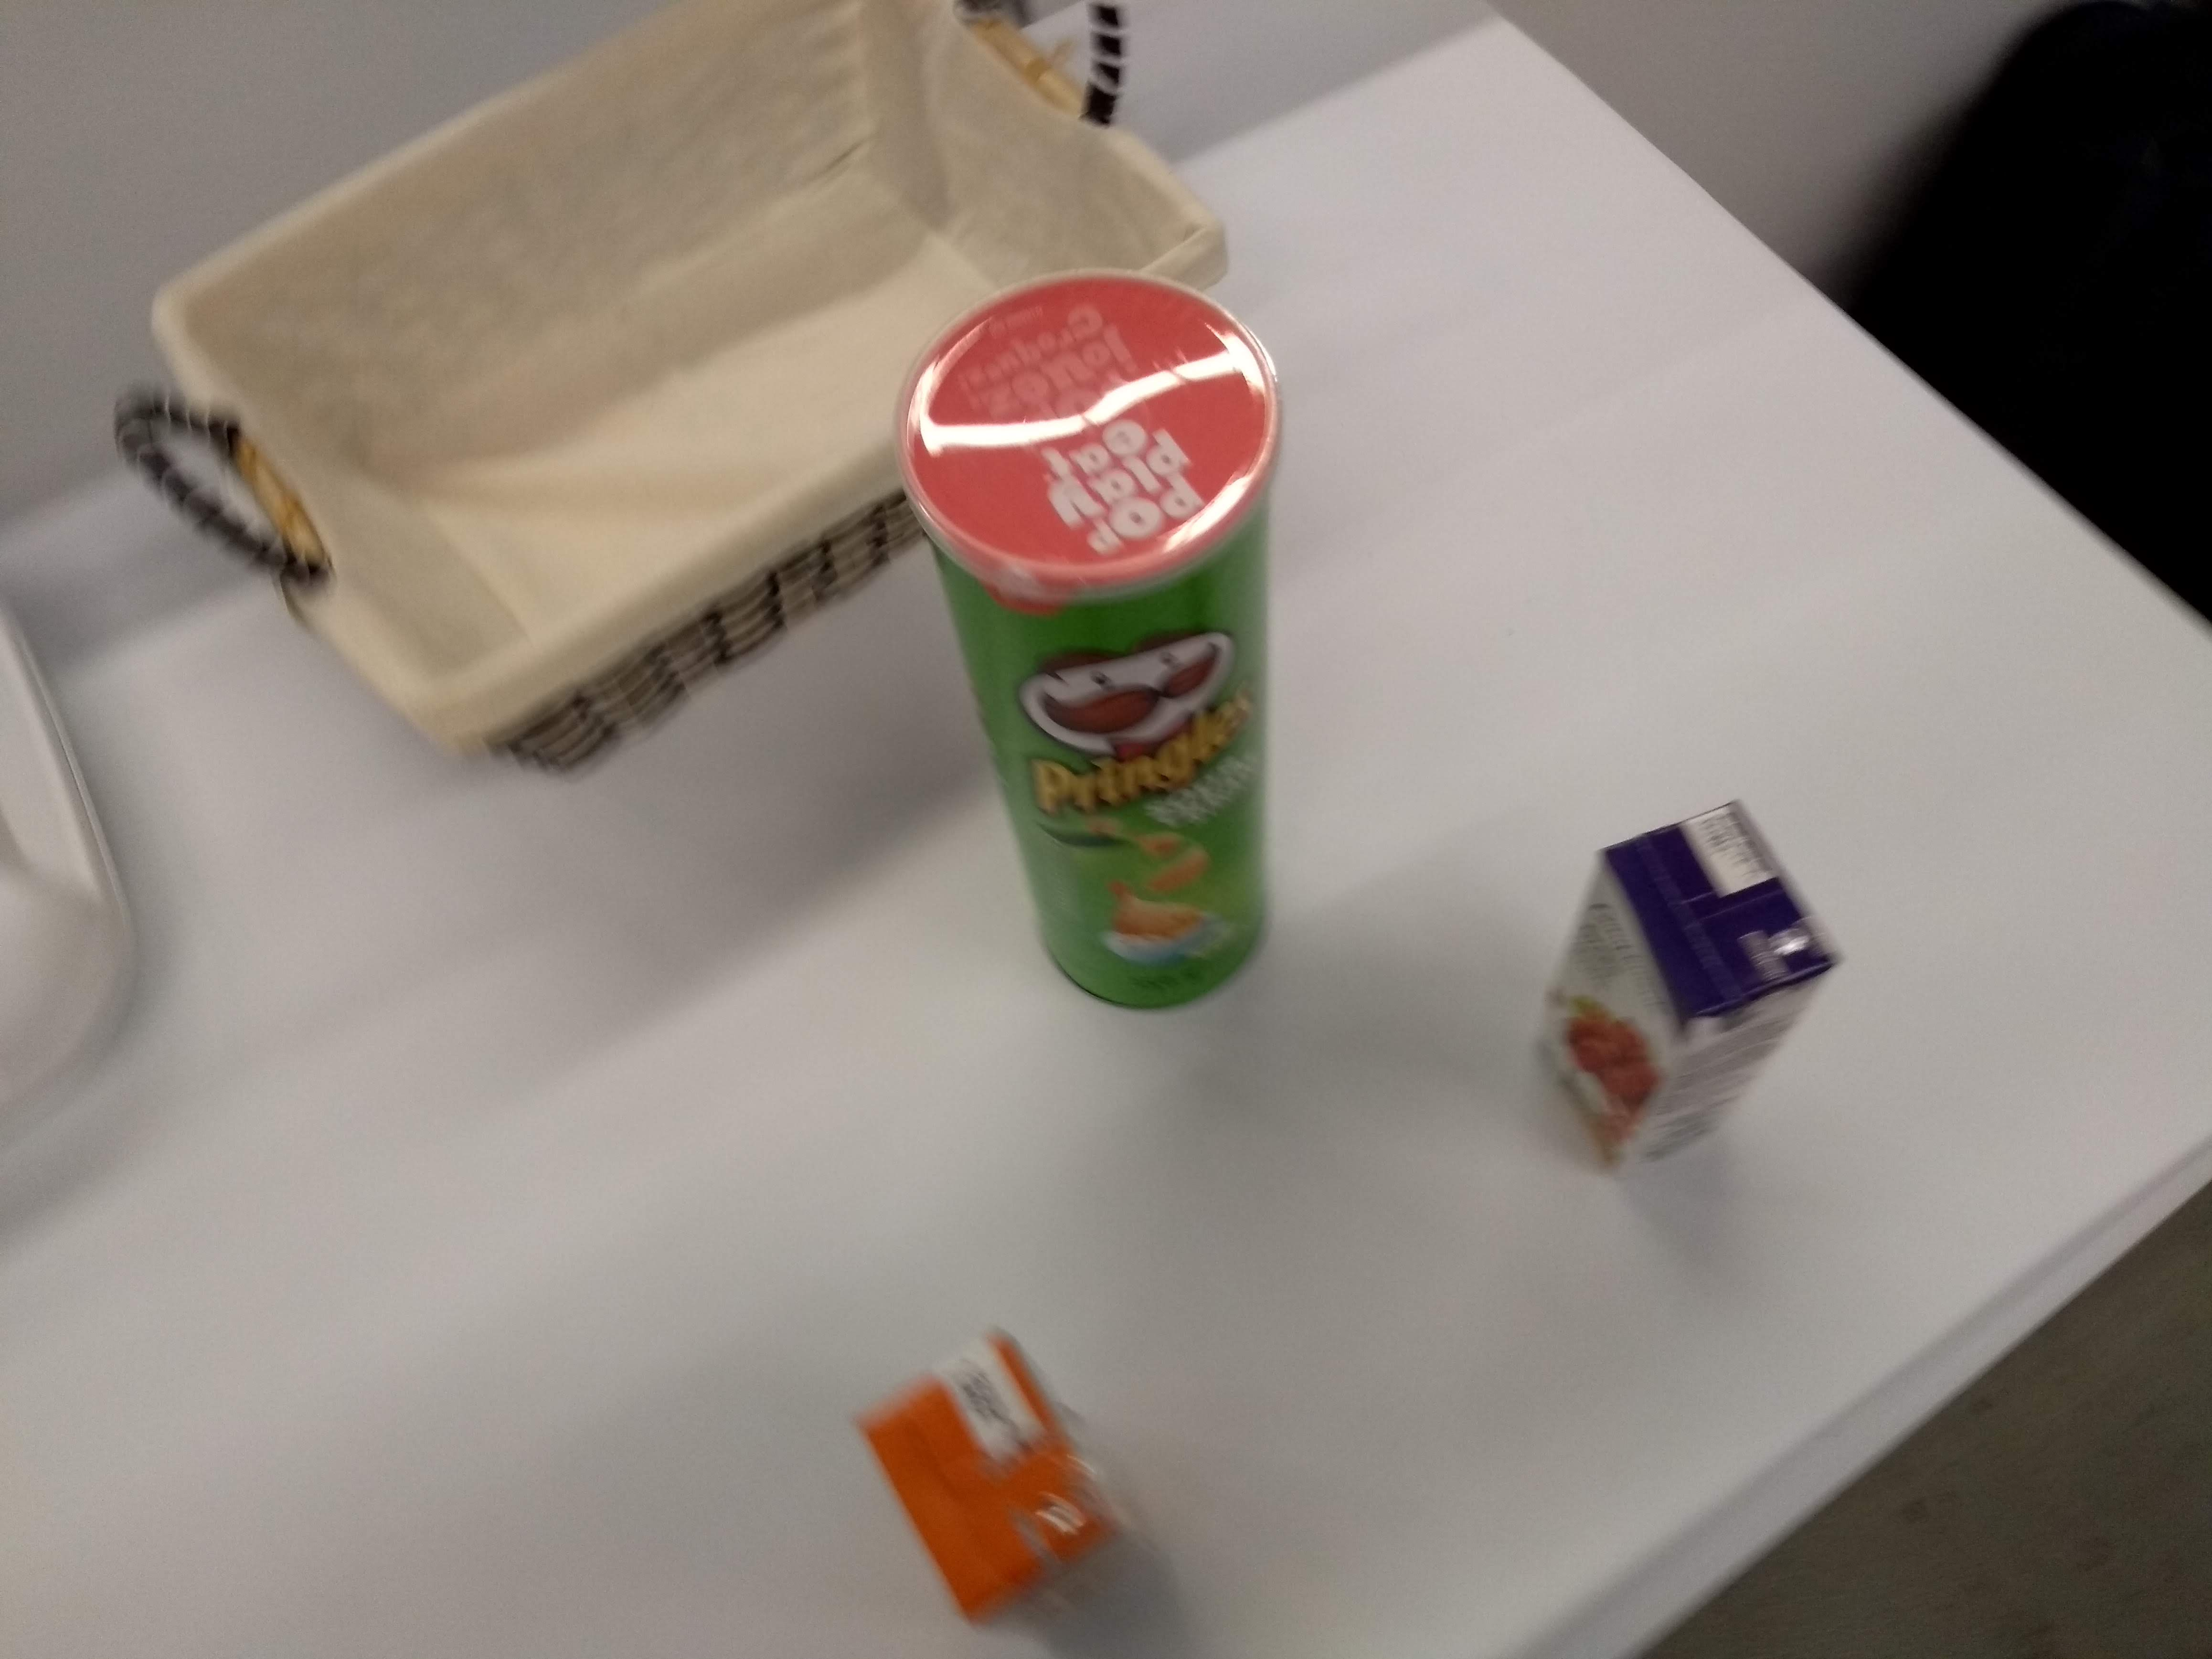grape_juice: (1514, 791, 1865, 1180)
orange_juice: (846, 1316, 1179, 1636)
pringles: (887, 260, 1312, 1025)
